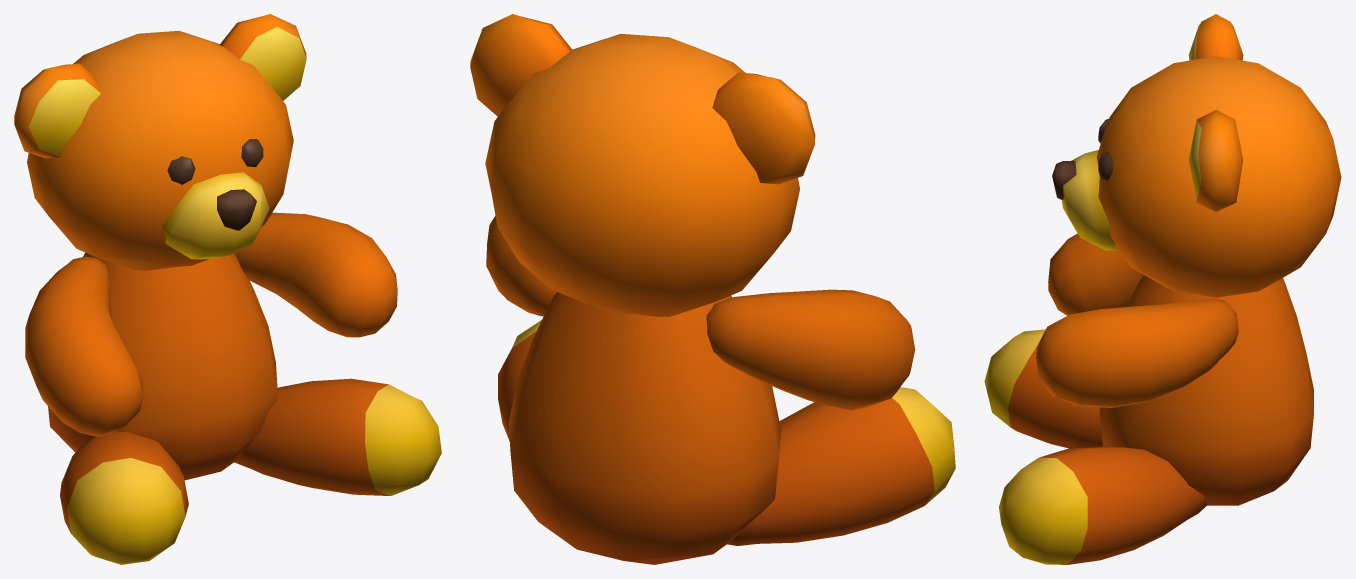
Rendered from teddyBear.fbx.
3 renders of one model, left to right at view 1: azimuth 30°, elevation 25°; view 2: azimuth 150°, elevation 25°; view 3: azimuth 270°, elevation 25°, orthographic. The views are drawn at different scales.
Parts seen in each view (by area): view 1: teddyBear; view 2: teddyBear; view 3: teddyBear.
Boxes of the visible parts, x1=… form: teddyBear: x1=14, y1=14, x2=441, y2=564; teddyBear: x1=470, y1=14, x2=955, y2=564; teddyBear: x1=984, y1=14, x2=1341, y2=564.
Size of the model in its own units: 24.31 by 27.36 by 20.8.
